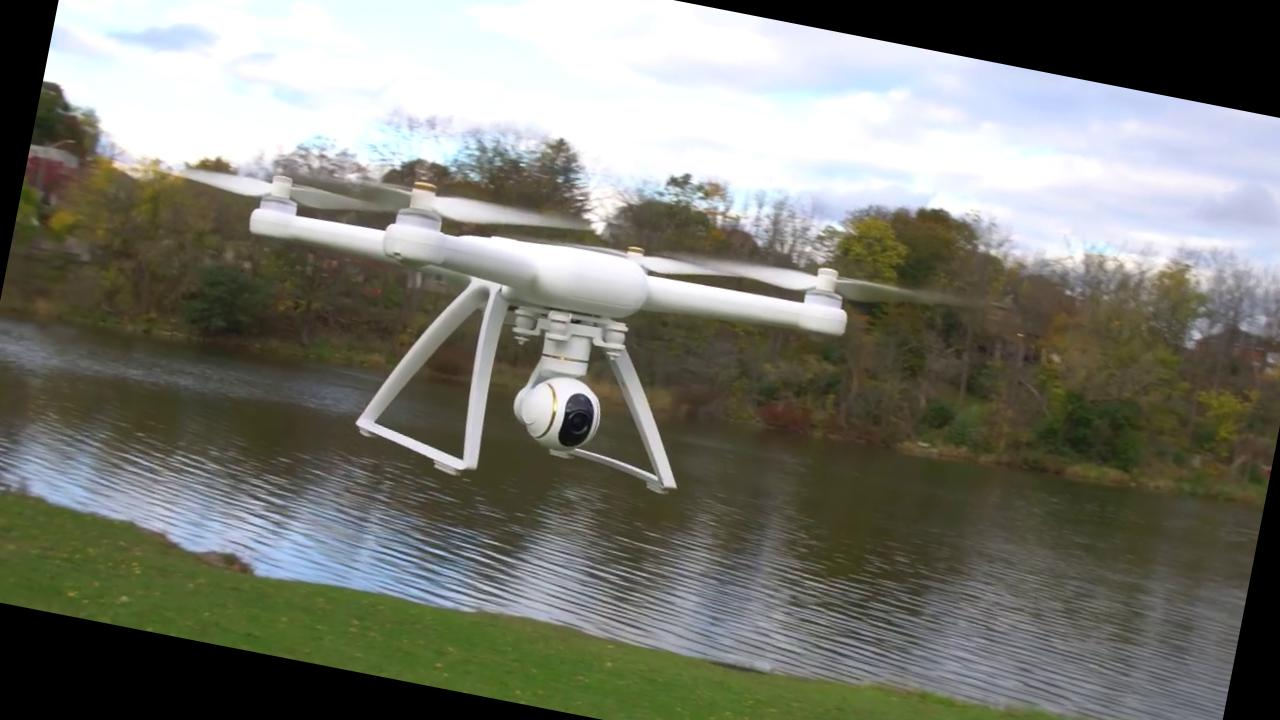drone: (111, 93, 953, 464)
